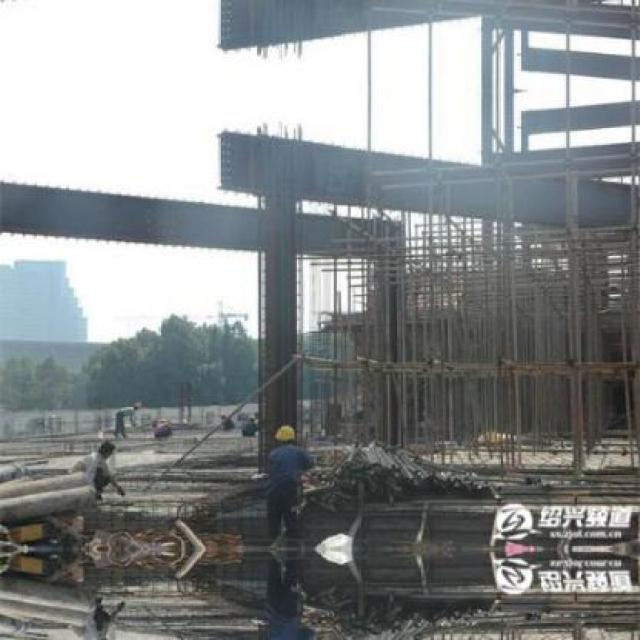helmet: (272, 422, 298, 452)
